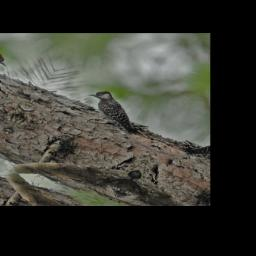Woodpecker: (70, 85, 159, 137)
